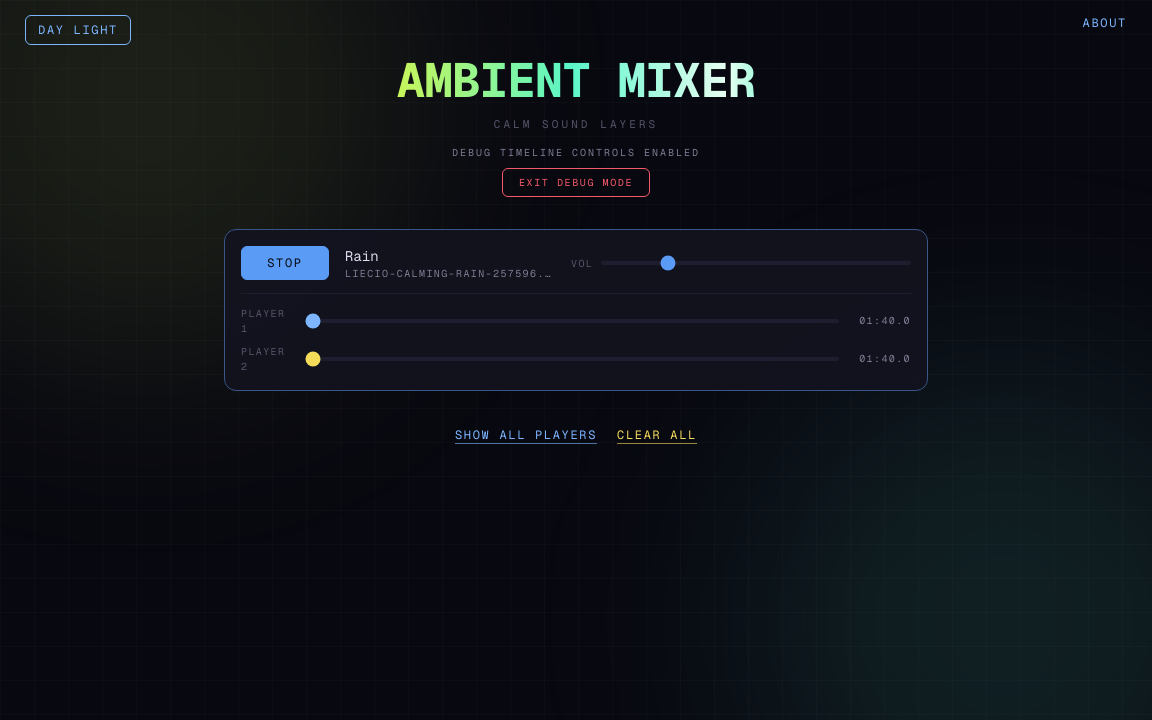
Home page audio state logic › exits debug mode by removing only the debug URL param
What coordinates should you click on to do the following:
click the button "Exit Debug Mode"
I would click on:
 (576, 182)
Its box is [502,168,650,196].
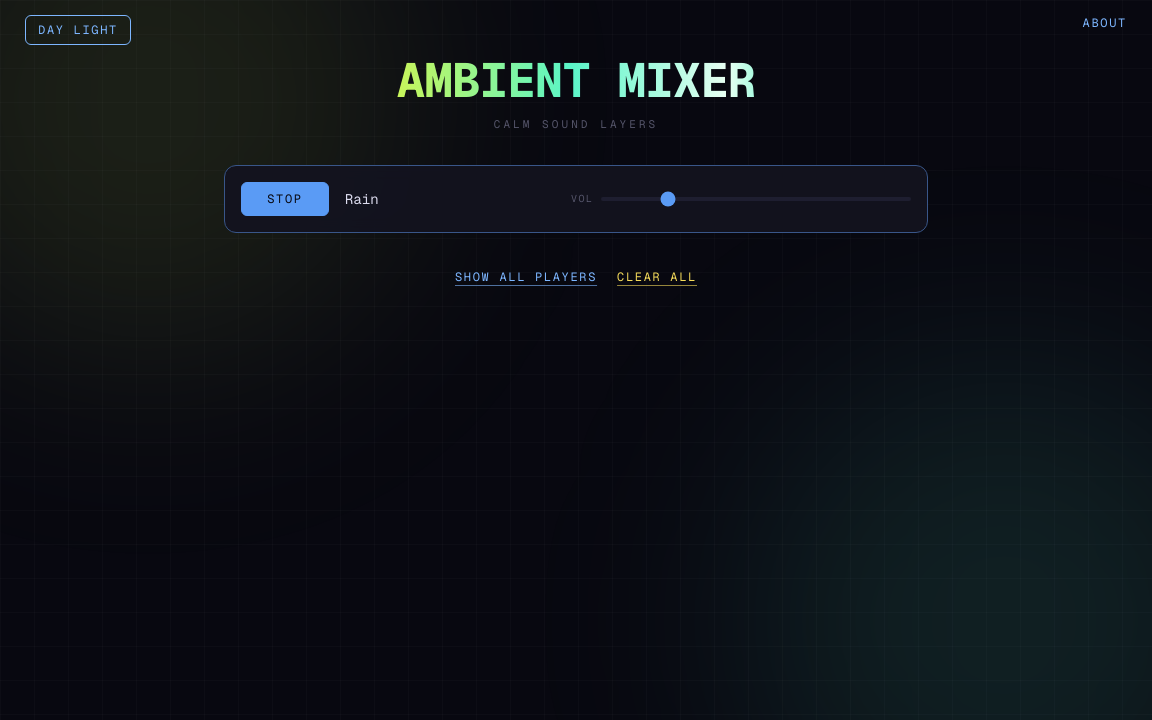
Expected: the text "Debug timeline controls enabled" is gone
